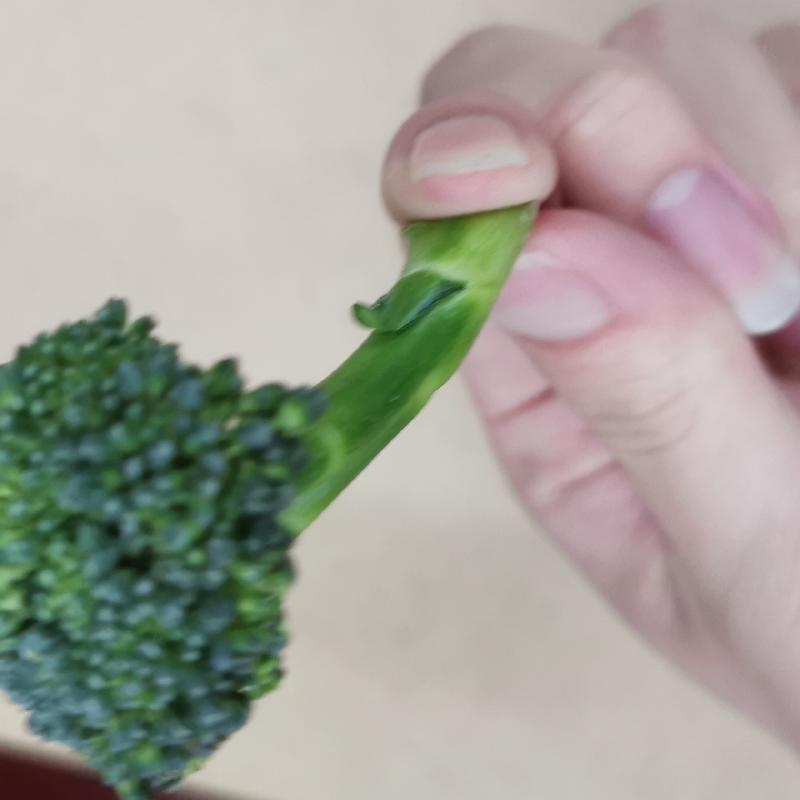broccoli: (6, 195, 553, 800)
